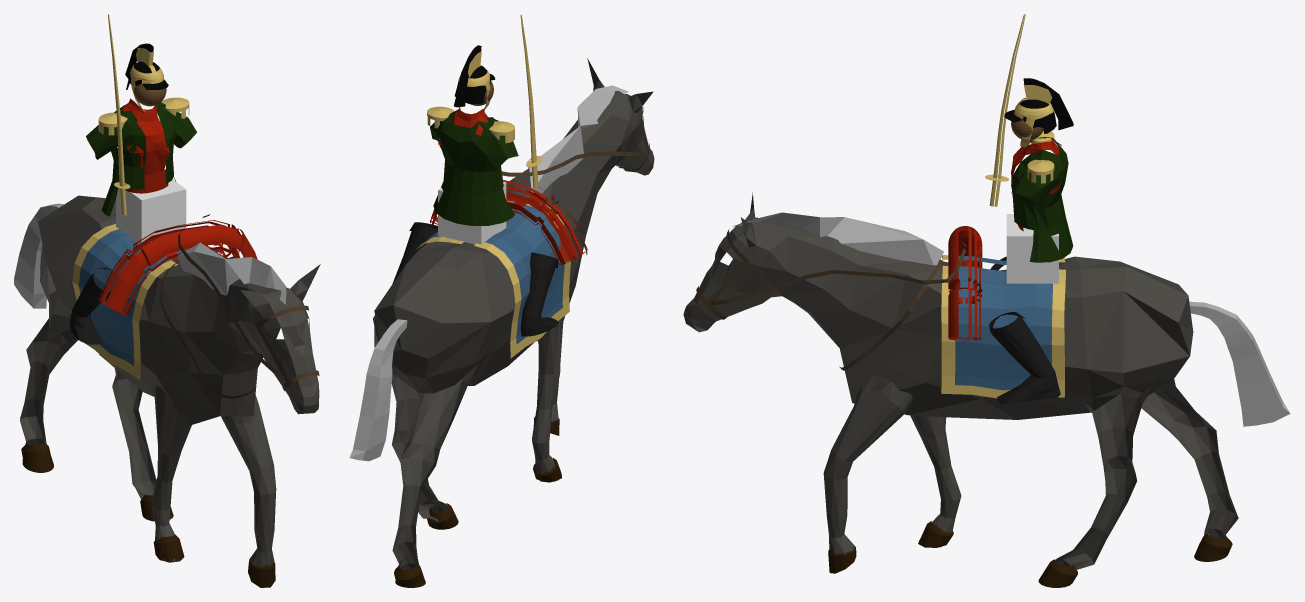
The model's file is Dragoons.glb.
The picture shows the model from 3 angles, left to right: view 1: azimuth 30°, elevation 25°; view 2: azimuth 150°, elevation 25°; view 3: azimuth 270°, elevation 25°; orthographic projection. The views are drawn at different scales.
Parts seen in each view (by area): view 1: horse body, Circle.005, rigth rear leg, horse cover, jacket, front left leg, right front leg, Cube, tail.001, left rear leg, shirt, tail (+14 smaller); view 2: horse body, jacket, rigth rear leg, horse cover, tail, right front leg, tail.001, Circle.005, left rear leg, boot right, horse cover trim, Cube (+10 smaller); view 3: horse body, horse cover, front left leg, left rear leg, rigth rear leg, jacket, tail, tail.001, horse cover trim, boot left, Circle.005, right front leg (+6 smaller).
Part boxes in pixels (<box>): horse body: <box>38,195,320,425</box>; Circle.005: <box>98,220,257,315</box>; rigth rear leg: <box>20,245,77,445</box>; horse cover: <box>78,229,221,374</box>; jacket: <box>86,102,196,216</box>; front left leg: <box>221,395,276,567</box>; right front leg: <box>151,383,191,561</box>; Cube: <box>116,179,186,244</box>; tail.001: <box>177,242,286,304</box>; left rear leg: <box>112,368,156,499</box>; shirt: <box>122,98,169,193</box>; tail: <box>14,203,63,308</box>; horse body: <box>373,58,654,393</box>; jacket: <box>430,110,518,225</box>; rigth rear leg: <box>392,344,491,570</box>; horse cover: <box>417,201,564,351</box>; tail: <box>349,319,407,461</box>; right front leg: <box>532,318,563,482</box>; tail.001: <box>524,85,628,196</box>; Circle.005: <box>430,180,587,265</box>; left rear leg: <box>374,316,447,522</box>; boot right: <box>520,252,558,336</box>; horse cover trim: <box>417,200,570,358</box>; Cube: <box>438,181,506,244</box>; horse body: <box>683,192,1193,419</box>; horse cover: <box>942,255,1064,390</box>; front left leg: <box>823,376,912,554</box>; left rear leg: <box>1055,371,1162,570</box>; rigth rear leg: <box>1141,378,1238,538</box>; jacket: <box>1011,137,1073,262</box>; tail: <box>1189,301,1290,426</box>; tail.001: <box>732,212,943,265</box>; horse cover trim: <box>941,255,1065,398</box>; boot left: <box>989,312,1060,404</box>; Circle.005: <box>948,226,982,340</box>; right front leg: <box>910,415,961,547</box>.
Bounding box in the file's own units: 1.01 × 2.98 × 3.06.
